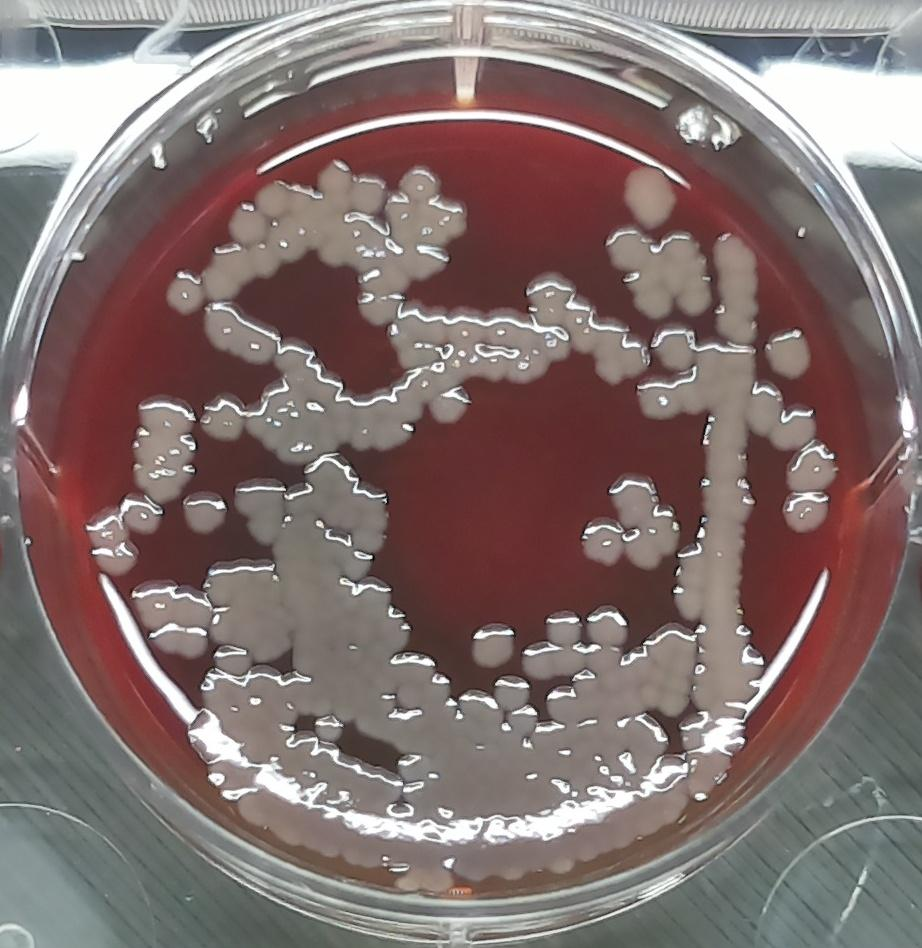paeruginosa: (696, 406, 764, 730), (710, 226, 771, 346), (616, 160, 682, 234), (231, 473, 289, 543), (671, 534, 711, 621), (464, 611, 519, 674), (784, 436, 845, 491), (776, 486, 836, 540), (762, 325, 815, 383), (196, 389, 245, 446)
